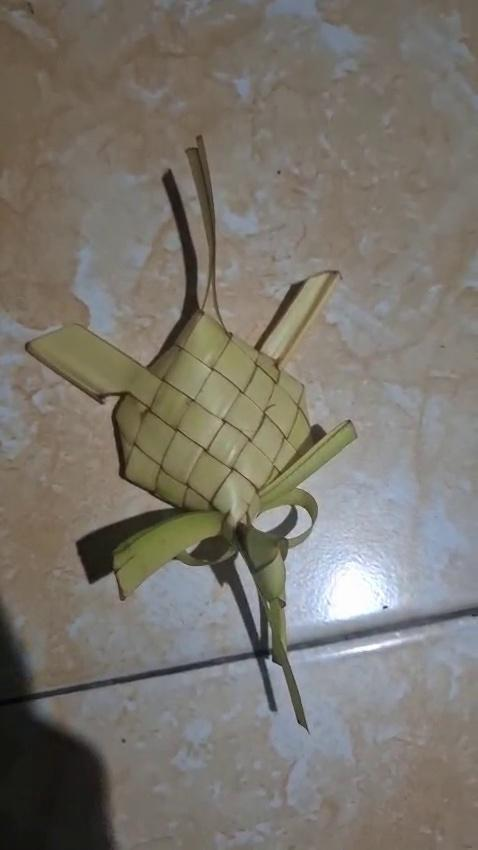Tipat Dampulan: (13, 141, 363, 667)
